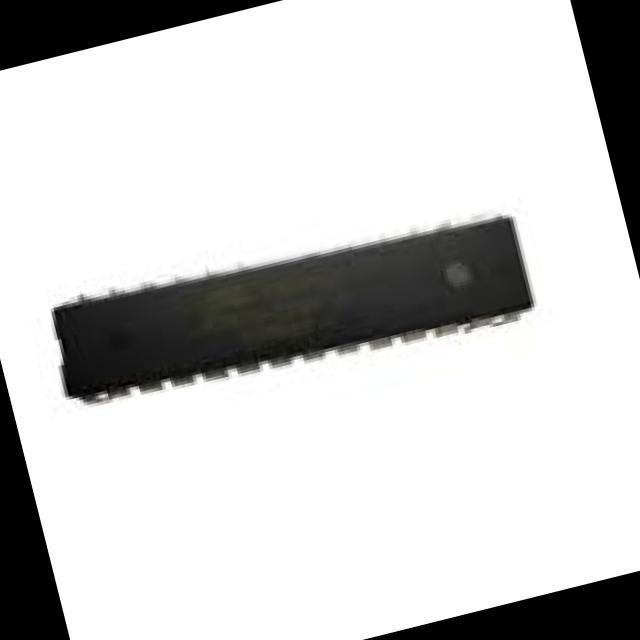atmega: (34, 180, 544, 438)
